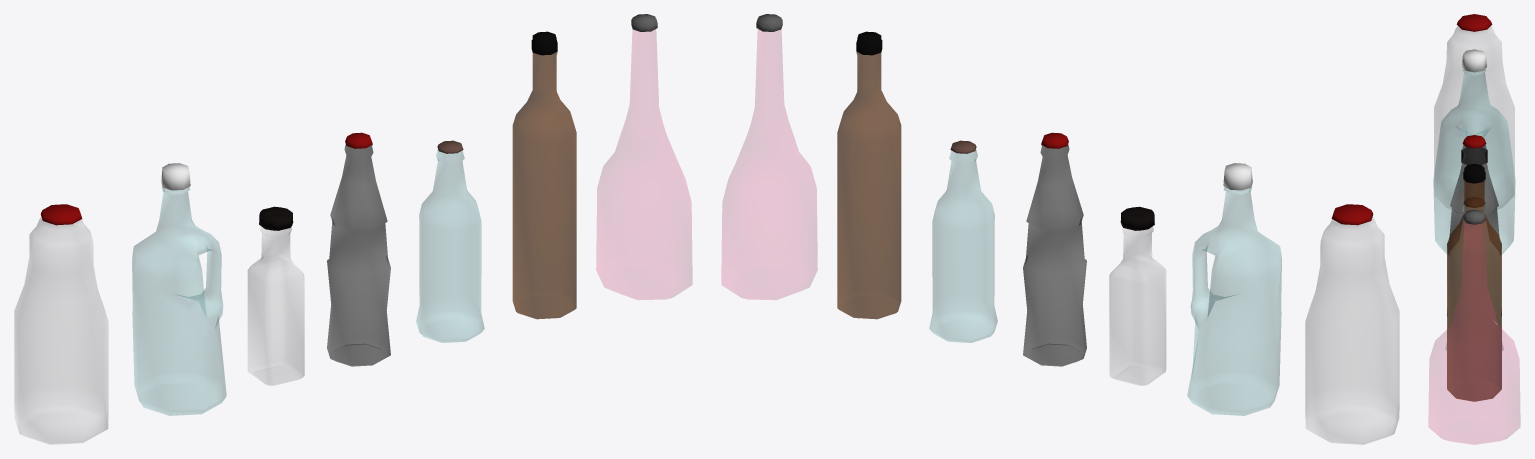
File: uploads_files_2271069_bottle.fbx
3 views of the same model, side by side, from view 1: azimuth 30°, elevation 25°; view 2: azimuth 150°, elevation 25°; view 3: azimuth 270°, elevation 25° (orthographic). The views are drawn at different scales.
Parts seen in each view (by area): view 1: _pCylinder6, _pCylinder5, _pCylinder3, _pCylinder1, _pCylinder4, _pCylinder2, _pCube1; view 2: _pCylinder6, _pCylinder5, _pCylinder3, _pCylinder1, _pCylinder4, _pCylinder2, _pCube1; view 3: _pCylinder3, _pCylinder1, _pCylinder6, _pCylinder5, _pCylinder4, _pCube1, _pCylinder2.
Boxes of the visible parts, x1,y1,x2,y2 form: _pCylinder6: (14, 204, 108, 444); _pCylinder5: (132, 163, 226, 415); _pCylinder3: (596, 14, 691, 299); _pCylinder1: (512, 31, 576, 319); _pCylinder4: (327, 132, 390, 366); _pCylinder2: (416, 140, 484, 342); _pCube1: (248, 206, 304, 385); _pCylinder6: (1305, 204, 1399, 444); _pCylinder5: (1187, 163, 1281, 415); _pCylinder3: (722, 14, 817, 299); _pCylinder1: (837, 31, 901, 319); _pCylinder4: (1023, 132, 1086, 366); _pCylinder2: (929, 140, 997, 342); _pCube1: (1109, 206, 1165, 385); _pCylinder3: (1429, 209, 1519, 444); _pCylinder1: (1447, 164, 1501, 401); _pCylinder6: (1434, 14, 1514, 208); _pCylinder5: (1433, 49, 1515, 253); _pCylinder4: (1447, 135, 1501, 315); _pCube1: (1461, 147, 1487, 164); _pCylinder2: (1445, 197, 1503, 350).
Size of the model in its own units: 23.16 by 9.15 by 3.37.
